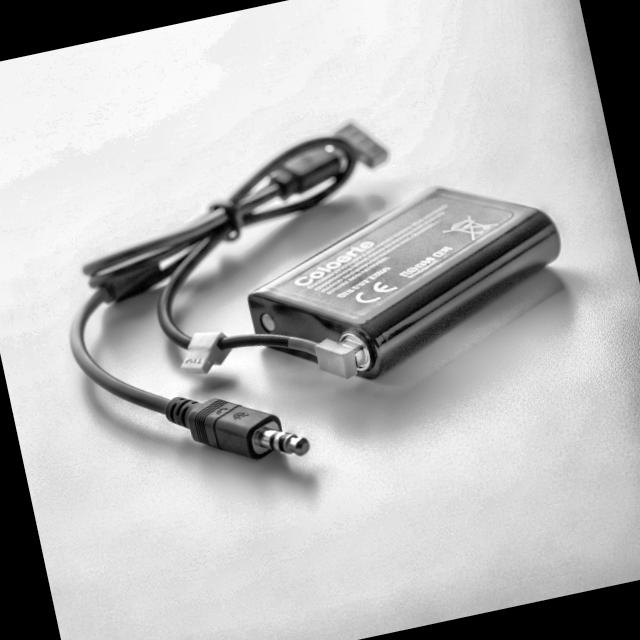Battery: (249, 186, 563, 381)
Cable: (66, 119, 388, 459)
